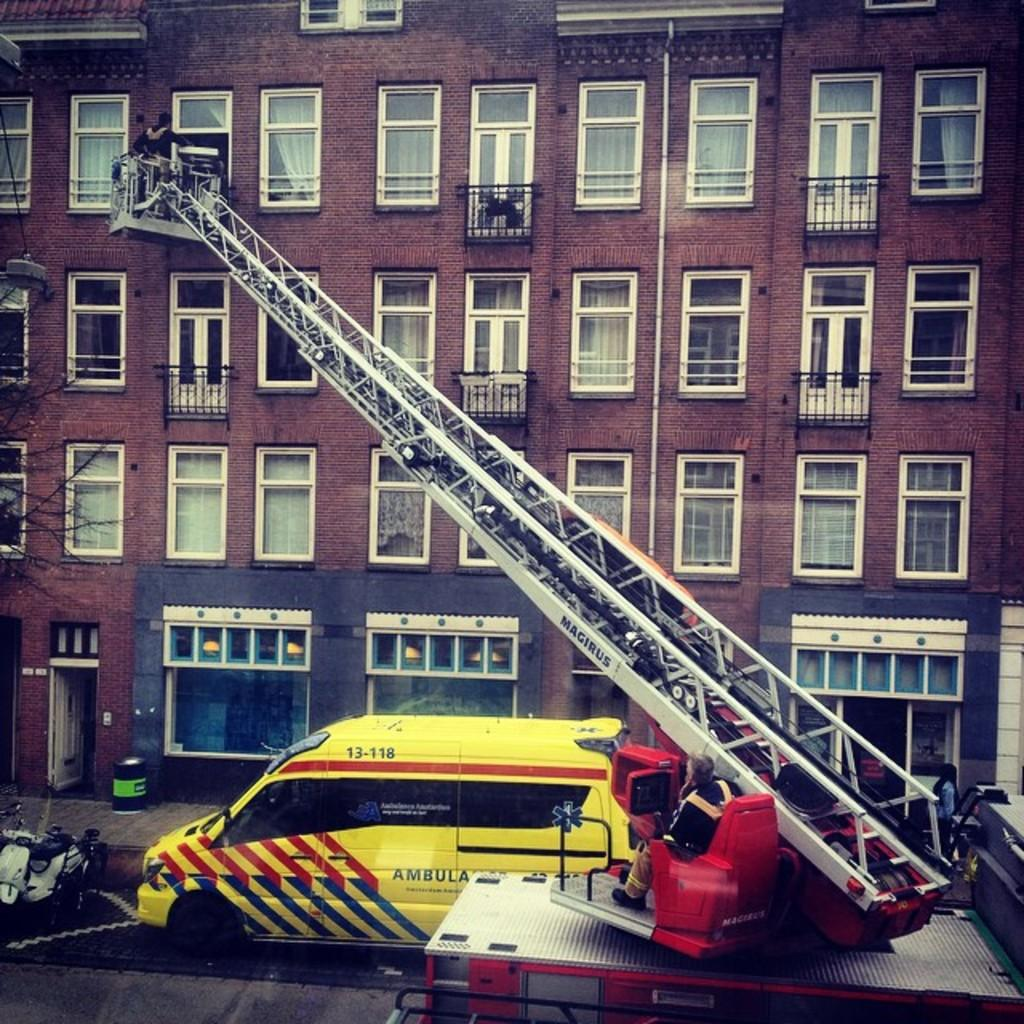Ambulance: (133, 714, 650, 962)
